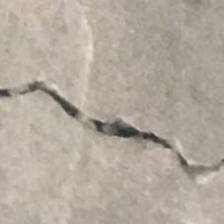Crack: (0, 70, 224, 183)
